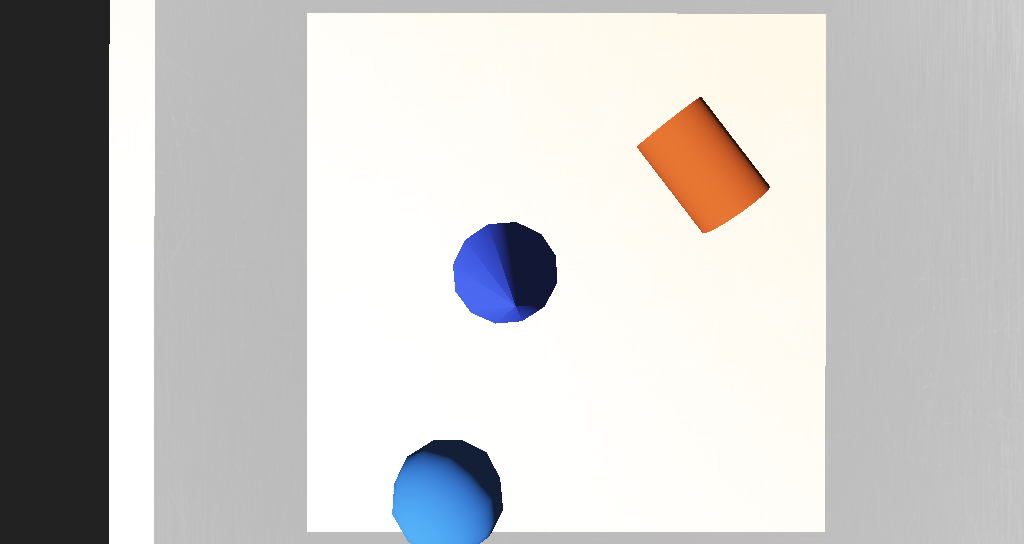cone: (549, 196, 623, 253)
cylinder: (435, 246, 509, 308)
sphere: (408, 336, 468, 379)
